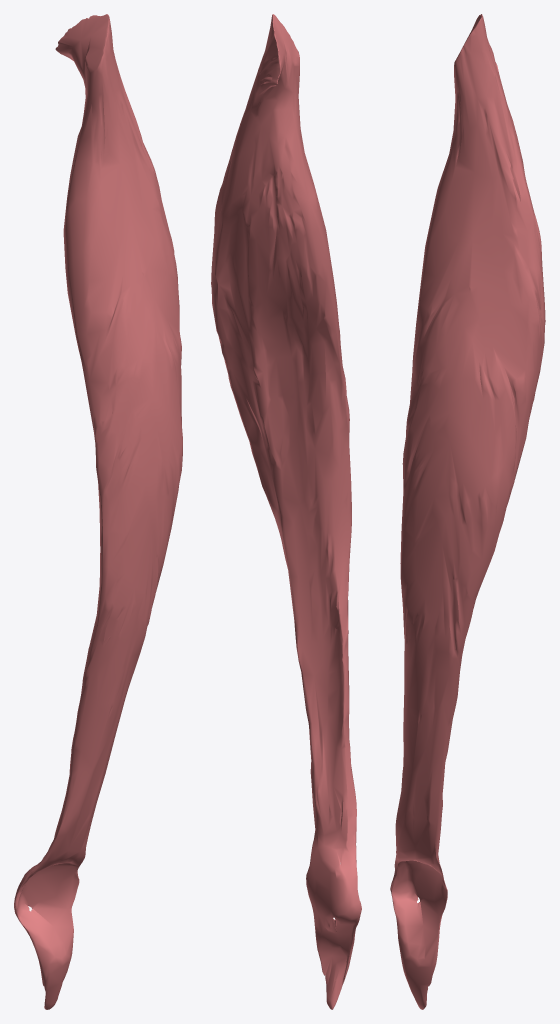
3 views of the same model, side by side, from view 1: azimuth 30°, elevation 25°; view 2: azimuth 150°, elevation 25°; view 3: azimuth 330°, elevation 25° (orthographic). The views are drawn at different scales.
Parts seen in each view (by area): view 1: FJ1433M; view 2: FJ1433M; view 3: FJ1433M.
Boxes of the visible parts, x1=… form: FJ1433M: x1=14, y1=14, x2=182, y2=1009; FJ1433M: x1=211, y1=14, x2=361, y2=1009; FJ1433M: x1=390, y1=14, x2=545, y2=1009.
Bounding box in the file's own units: 0.0911 × 0.5534 × 0.0682.
